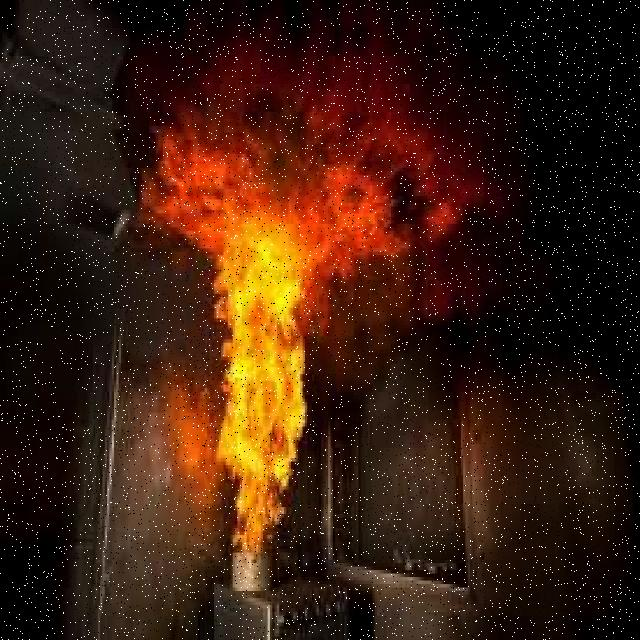fire: (214, 227, 308, 544)
